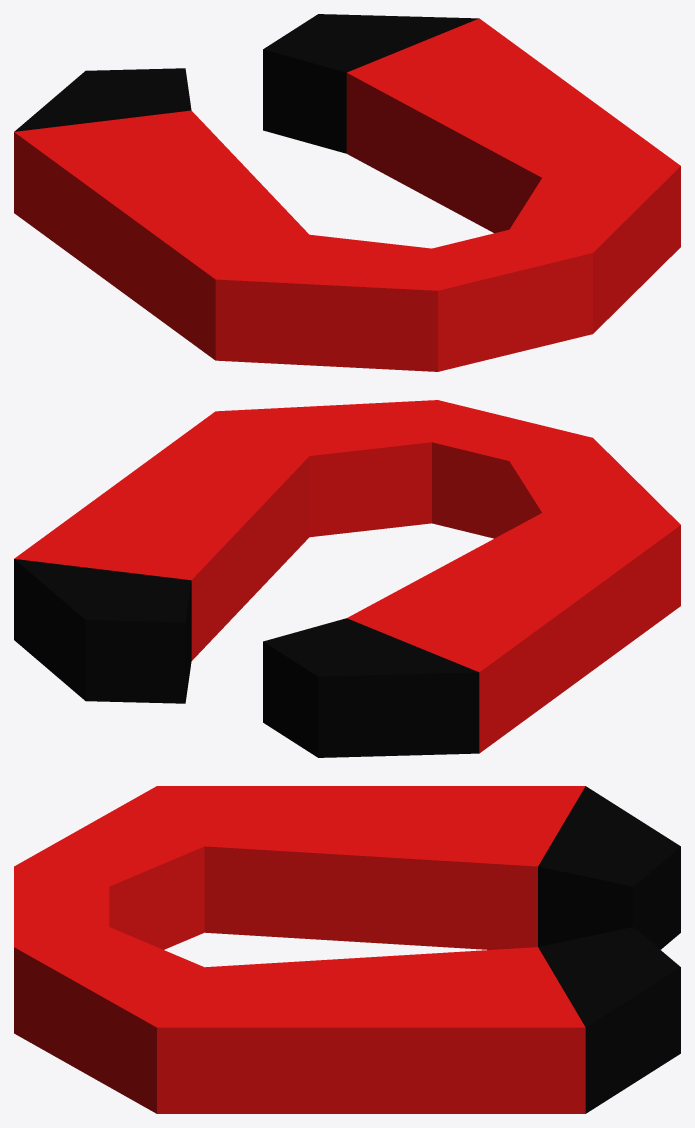
The model's file is inv_magnet.obj.
The picture shows the model from 3 angles, top to bottom: view 1: azimuth 30°, elevation 25°; view 2: azimuth 150°, elevation 25°; view 3: azimuth 270°, elevation 25°; orthographic projection. The views are drawn at different scales.
Size of the model in its own units: 0.375 by 0.0625 by 0.4375.
